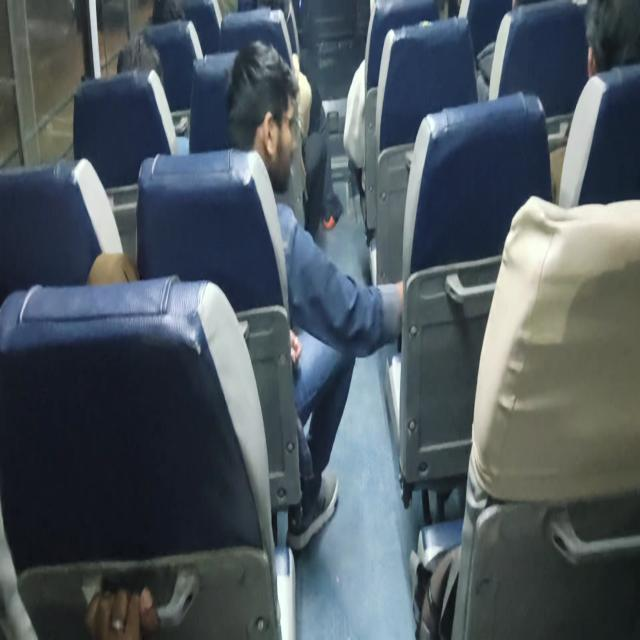person: (224, 38, 404, 551), (548, 0, 639, 203)
